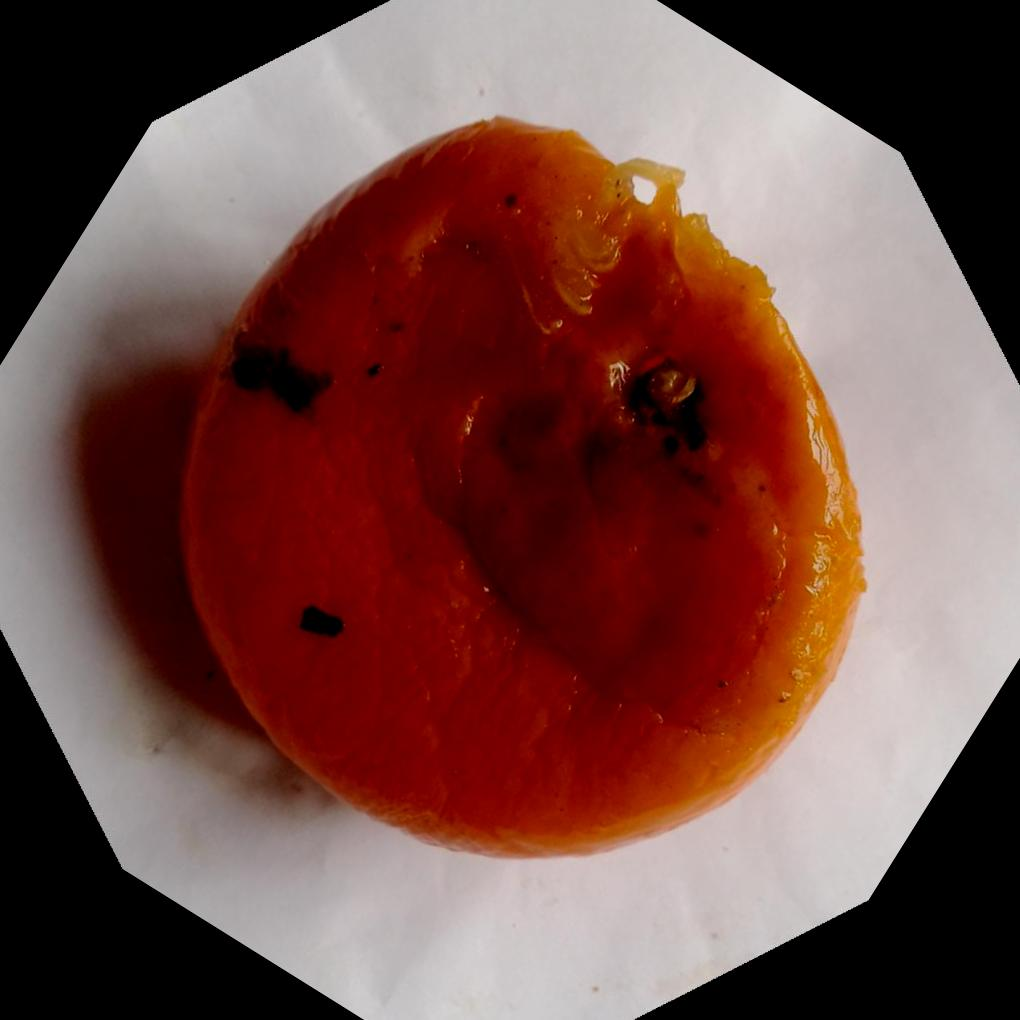FreshOrange: (173, 115, 866, 863)
